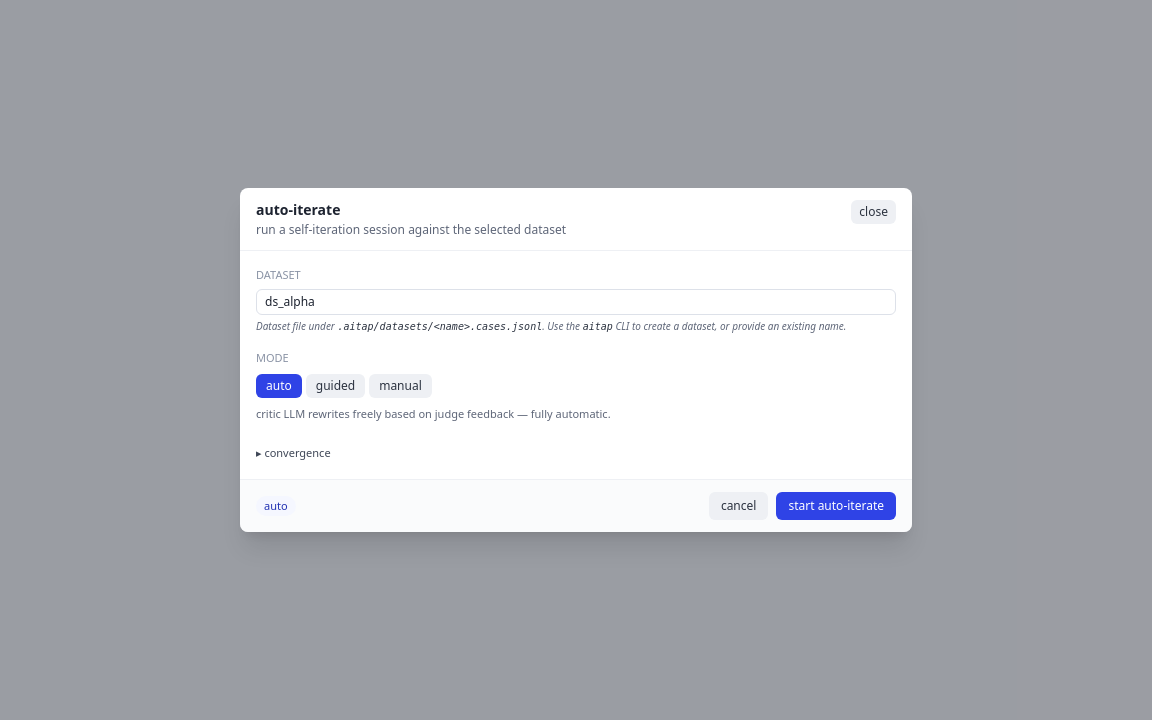
Scenario: AutoIterateModal › disables Start when manual mode lacks a non-empty body
The width and height of the screenshot is (1152, 720).
Click the button "manual" at (400, 386), box 369,374 -> 432,398
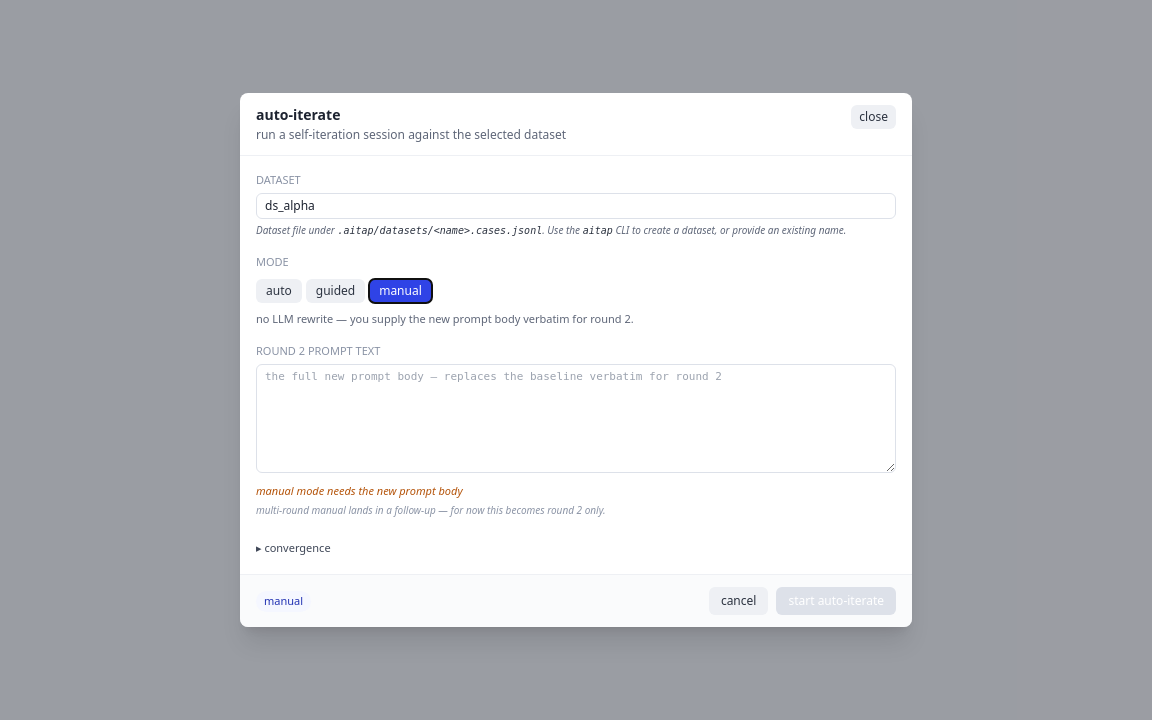
Expected: the button "start auto-iterate" is disabled, 776,587 -> 896,615
Type "You are a precise assistant. Answer in two sentences." into the text box labelled "round 2 prompt text" at (576, 418), box 256,364 -> 896,473
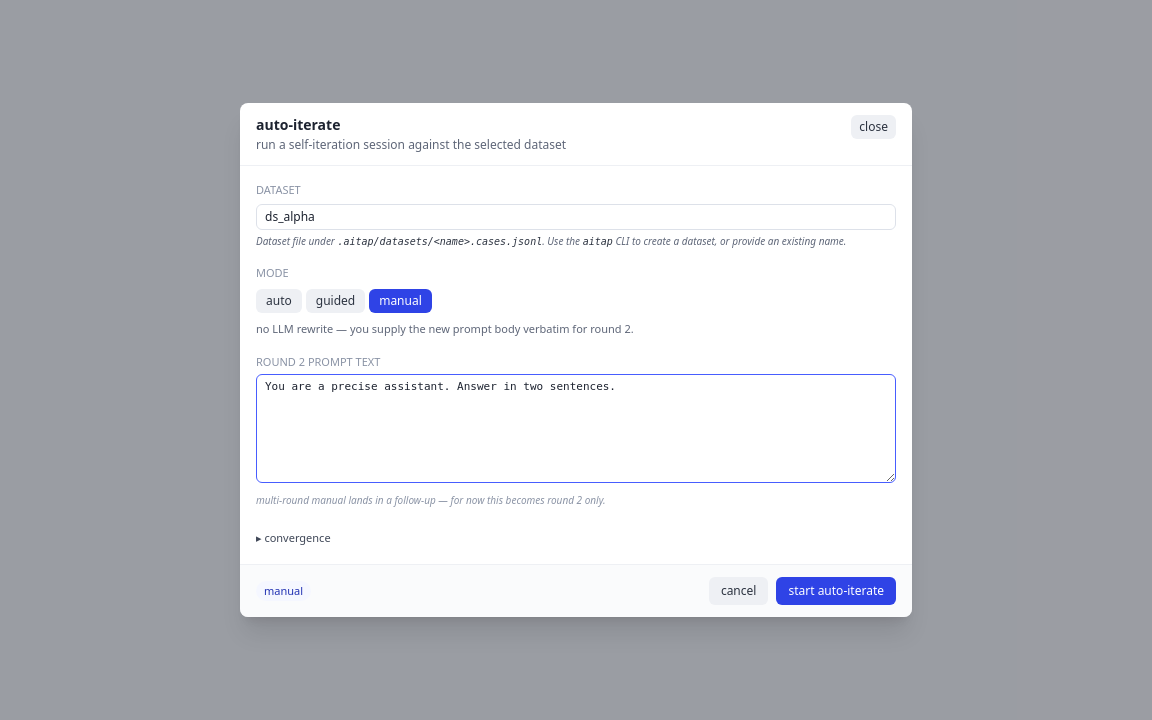
Expected: the button "start auto-iterate" is enabled, 776,577 -> 896,605
